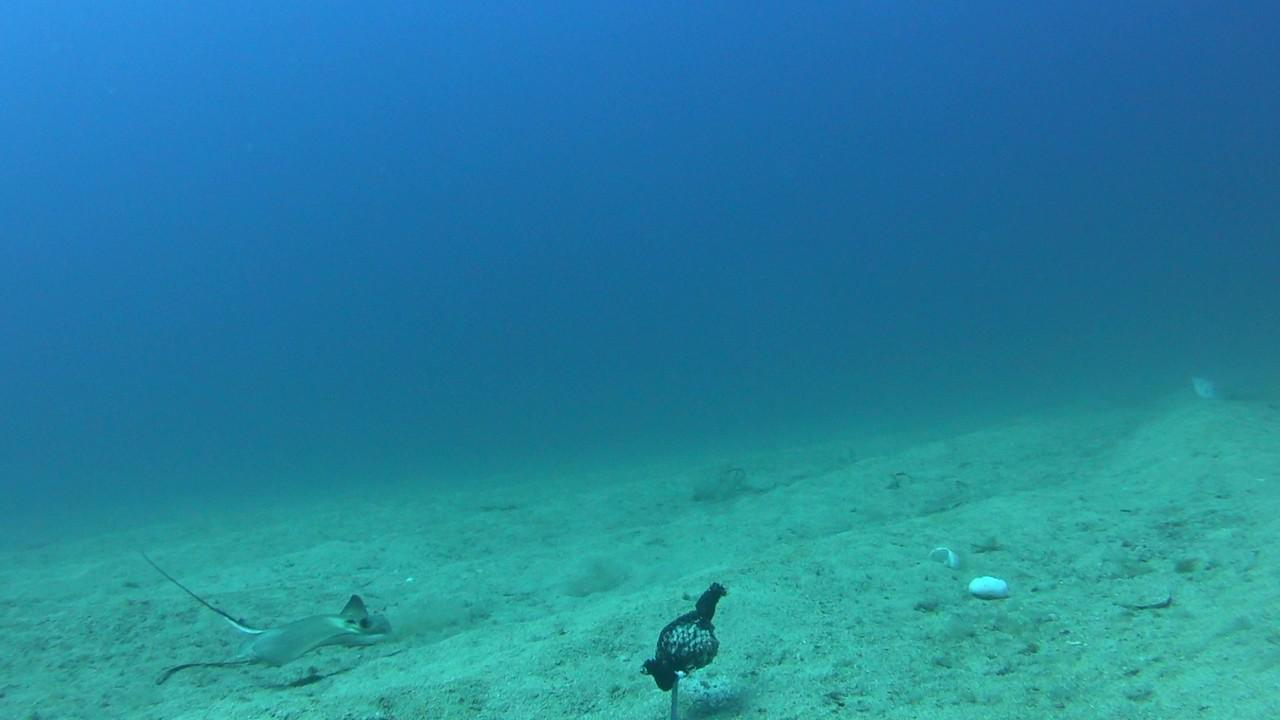myliobatis: (137, 530, 401, 684)
